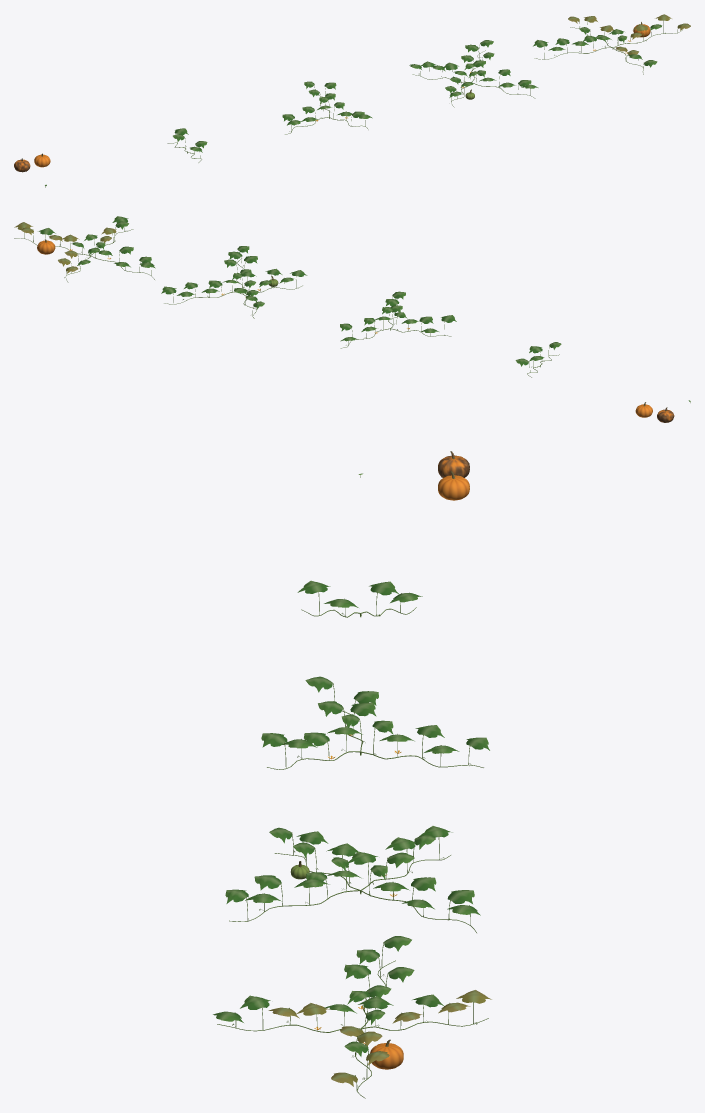
The model's file is fieldworks_pumpkin.glb.
The picture shows the model from 3 angles, top to bottom: view 1: azimuth 30°, elevation 25°; view 2: azimuth 150°, elevation 25°; view 3: azimuth 270°, elevation 25°; orthographic projection. The views are drawn at different scales.
Visible parts, largest first — view 1: pumpkin_stage5_ripe, pumpkin_stage4_green_fruit, pumpkin_stage3_flowering, pumpkin_stage2_vining; view 2: pumpkin_stage5_ripe, pumpkin_stage4_green_fruit, pumpkin_stage3_flowering, pumpkin_stage2_vining; view 3: pumpkin_stage5_ripe, pumpkin_stage4_green_fruit, pumpkin_stage3_flowering, pumpkin_stage2_vining.
Part boxes in pixels (x1=…): pumpkin_stage5_ripe: x1=533, y1=14, x2=690, y2=74; pumpkin_stage4_green_fruit: x1=409, y1=40, x2=538, y2=107; pumpkin_stage3_flowering: x1=282, y1=81, x2=372, y2=134; pumpkin_stage2_vining: x1=167, y1=128, x2=207, y2=162; pumpkin_stage5_ripe: x1=14, y1=216, x2=155, y2=282; pumpkin_stage4_green_fruit: x1=161, y1=246, x2=307, y2=318; pumpkin_stage3_flowering: x1=340, y1=291, x2=456, y2=348; pumpkin_stage2_vining: x1=515, y1=342, x2=561, y2=377; pumpkin_stage5_ripe: x1=213, y1=936, x2=491, y2=1098; pumpkin_stage4_green_fruit: x1=225, y1=826, x2=480, y2=932; pumpkin_stage3_flowering: x1=261, y1=676, x2=489, y2=769; pumpkin_stage2_vining: x1=297, y1=580, x2=422, y2=617.
Size of the model in its own units: 16.09 by 0.407 by 3.02.
